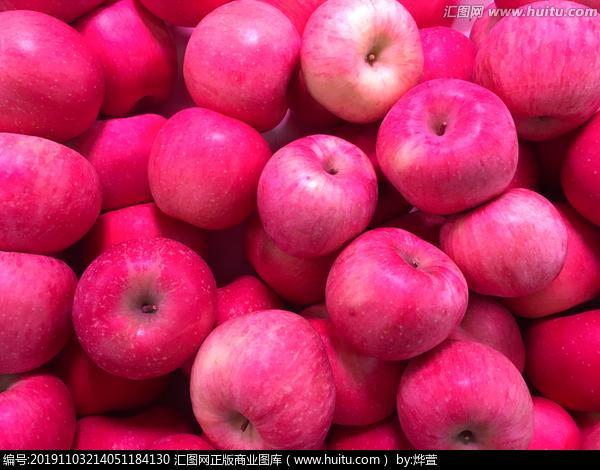apple: (72, 238, 220, 381), (189, 309, 335, 447), (376, 78, 519, 217), (325, 227, 467, 363), (476, 1, 600, 143), (298, 1, 425, 125), (180, 1, 303, 129), (256, 133, 379, 256), (148, 109, 271, 232), (395, 339, 535, 447), (440, 188, 568, 298), (1, 10, 107, 142), (1, 134, 102, 254), (1, 252, 78, 373), (74, 113, 167, 210), (1, 373, 78, 448), (560, 115, 599, 221), (416, 25, 477, 84)
